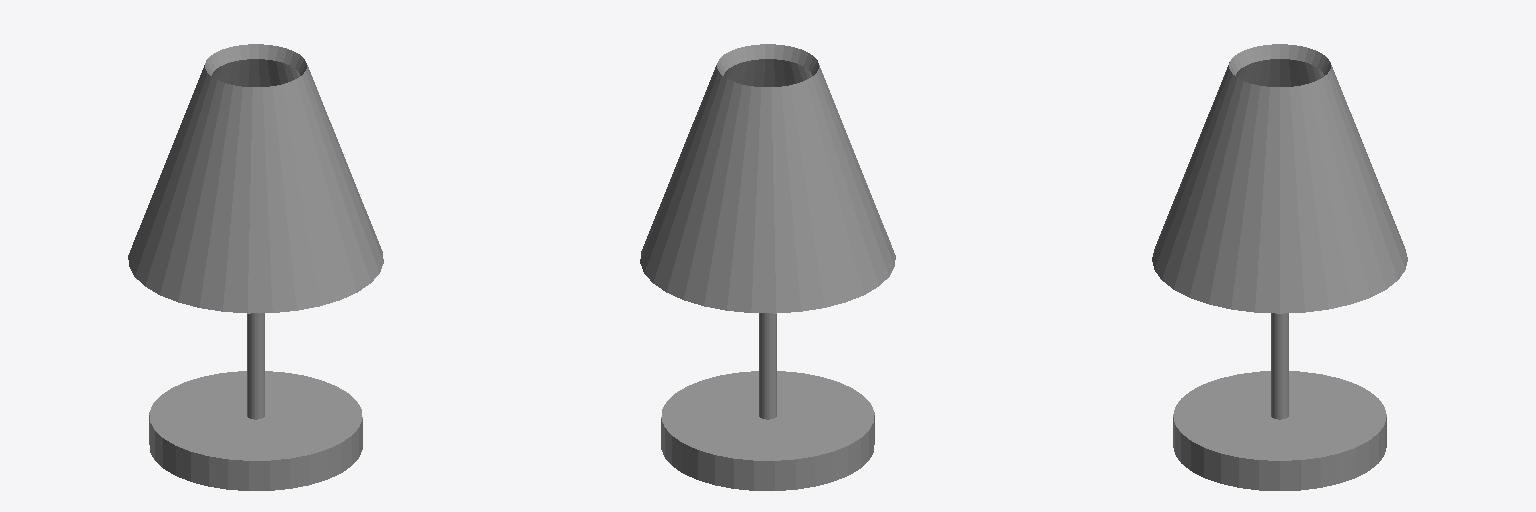
The model's file is Lamp.obj.
3 views of the same model, side by side, from view 1: azimuth 30°, elevation 25°; view 2: azimuth 150°, elevation 25°; view 3: azimuth 270°, elevation 25° (orthographic).
Visible parts, largest first — view 1: Shade_Cylinder, Base_Cylinder.001, Pole_Cylinder.002; view 2: Shade_Cylinder, Base_Cylinder.001, Pole_Cylinder.002; view 3: Shade_Cylinder, Base_Cylinder.001, Pole_Cylinder.002.
Boxes of the visible parts, x1=… form: Shade_Cylinder: x1=128, y1=44, x2=383, y2=313; Base_Cylinder.001: x1=149, y1=371, x2=362, y2=490; Pole_Cylinder.002: x1=247, y1=313, x2=264, y2=419; Shade_Cylinder: x1=640, y1=44, x2=895, y2=313; Base_Cylinder.001: x1=661, y1=371, x2=874, y2=490; Pole_Cylinder.002: x1=759, y1=313, x2=776, y2=419; Shade_Cylinder: x1=1152, y1=44, x2=1407, y2=313; Base_Cylinder.001: x1=1173, y1=371, x2=1386, y2=490; Pole_Cylinder.002: x1=1271, y1=313, x2=1288, y2=419.
Size of the model in its own units: 0.5992 by 0.9818 by 0.5992.